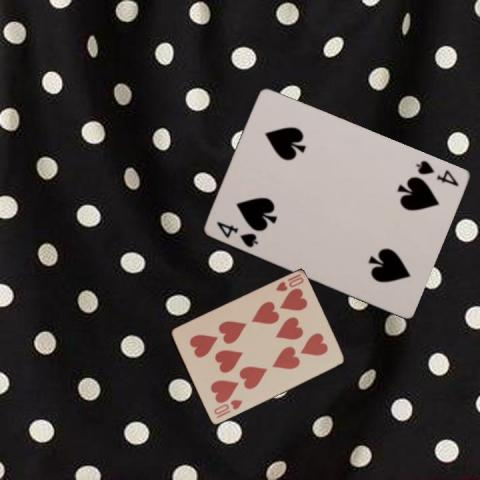10h: (211, 397, 244, 420), (273, 271, 305, 293)
4s: (412, 157, 460, 188), (214, 219, 260, 249)
